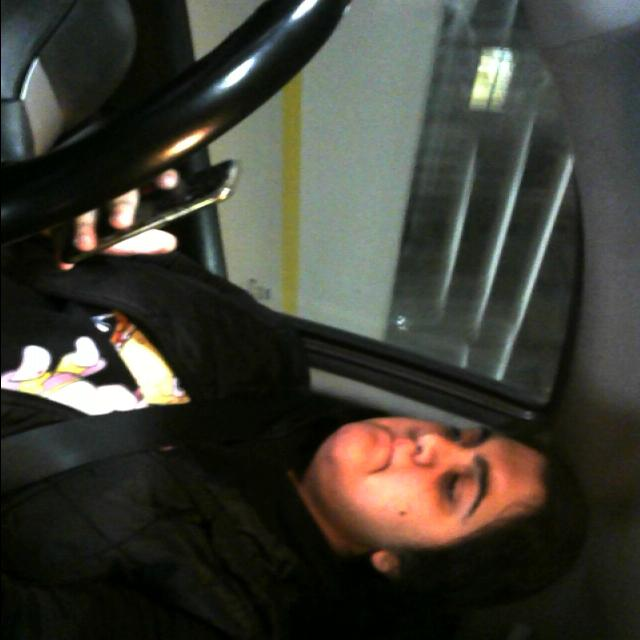mobile use: (61, 152, 240, 258)
